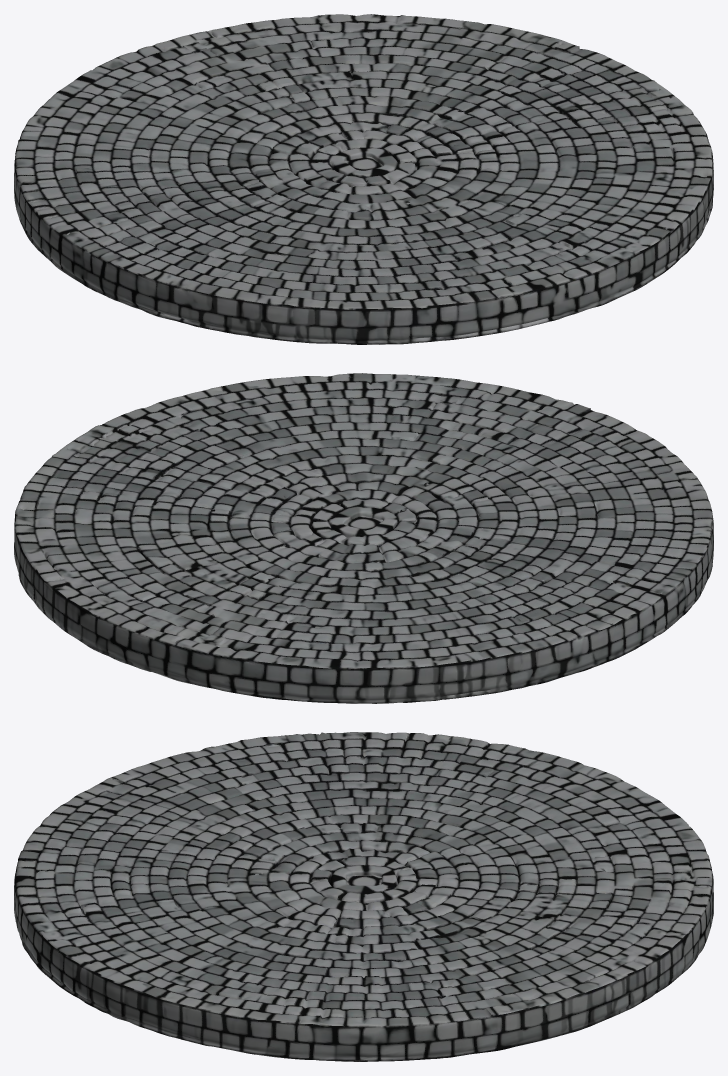
File: CircleStone.fbx
3 renders of one model, top to bottom at view 1: azimuth 30°, elevation 25°; view 2: azimuth 150°, elevation 25°; view 3: azimuth 270°, elevation 25°, orthographic.
Visible parts, largest first — view 1: tripo_node_aaf9f19a; view 2: tripo_node_aaf9f19a; view 3: tripo_node_aaf9f19a.
Part boxes in pixels (x1,y1,x2,y2): tripo_node_aaf9f19a: [14, 14, 713, 344]; tripo_node_aaf9f19a: [14, 373, 713, 703]; tripo_node_aaf9f19a: [14, 732, 713, 1061].
Bounding box in the file's own units: 0.9993 × 0.0587 × 0.9991.
1 material, 1 textured.
